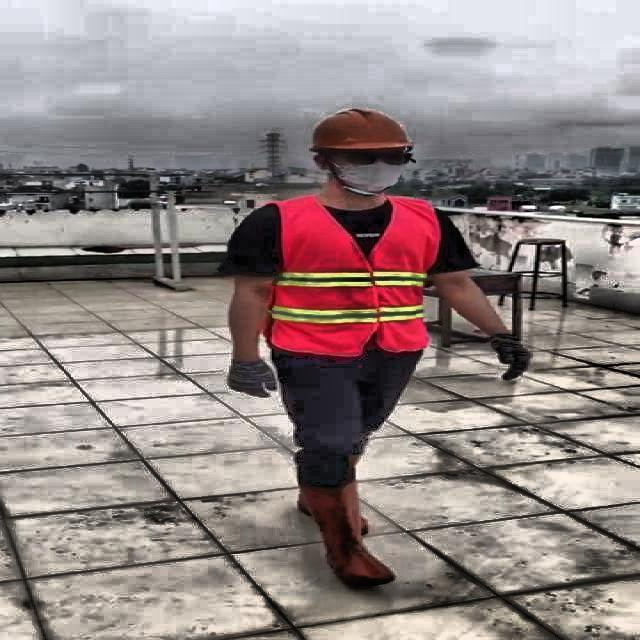safety_helmet: (301, 105, 414, 154)
safety_jacket: (268, 196, 440, 356)
